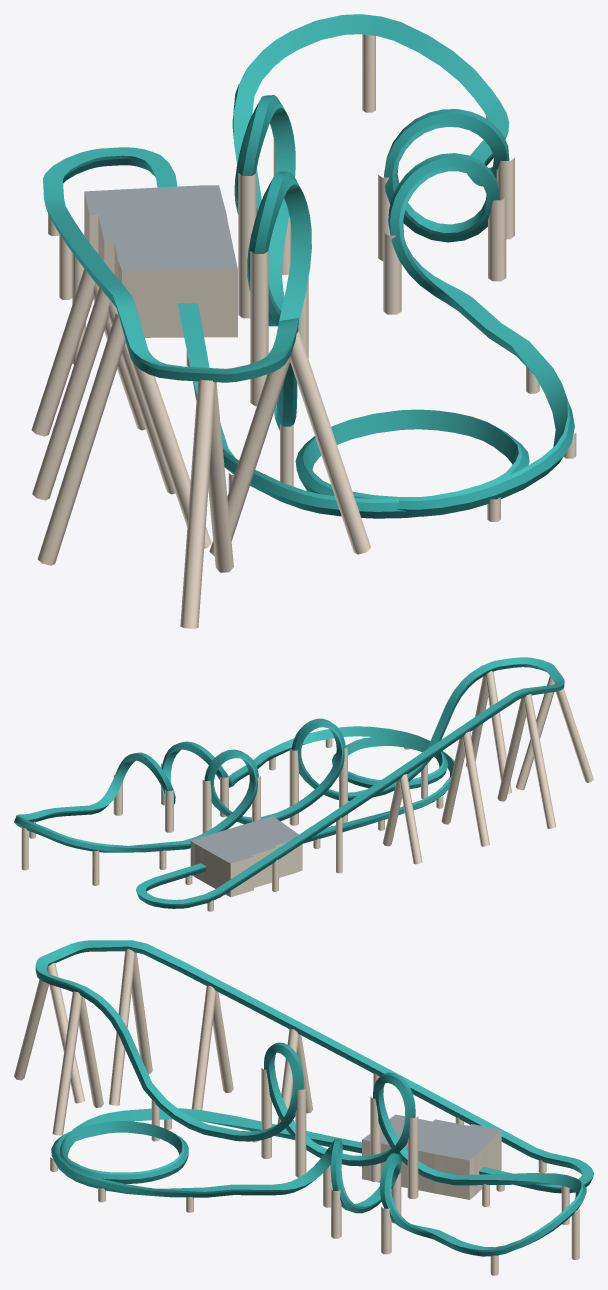
The model's file is carowinds-carolina-cyclone.glb.
3 renders of one model, top to bottom at view 1: azimuth 30°, elevation 25°; view 2: azimuth 150°, elevation 25°; view 3: azimuth 270°, elevation 25°, orthographic. The views are drawn at different scales.
Parts seen in each view (by area): view 1: Carolina Cyclone; view 2: Carolina Cyclone; view 3: Carolina Cyclone.
Boxes of the visible parts, bbox=[...] form: Carolina Cyclone: bbox=[31, 14, 576, 628]; Carolina Cyclone: bbox=[14, 657, 593, 911]; Carolina Cyclone: bbox=[14, 940, 593, 1275].
Bounding box in the file's own units: 95.68 × 31.02 × 108.
